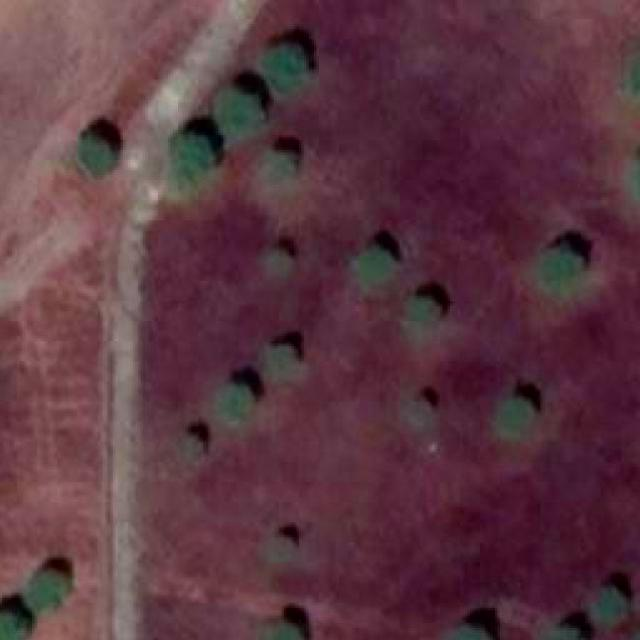Tree: (210, 89, 269, 145), (168, 135, 216, 188), (537, 250, 581, 301), (266, 41, 309, 90), (29, 567, 73, 613), (354, 240, 392, 286), (497, 398, 532, 436), (266, 148, 301, 183), (224, 382, 258, 416), (269, 341, 304, 374), (80, 140, 112, 175), (266, 248, 296, 284), (626, 39, 640, 105), (406, 298, 439, 326), (593, 588, 623, 618), (450, 623, 495, 640), (0, 613, 27, 640), (542, 625, 588, 640), (412, 396, 436, 424), (266, 623, 304, 640), (182, 432, 205, 457), (273, 536, 296, 556)
